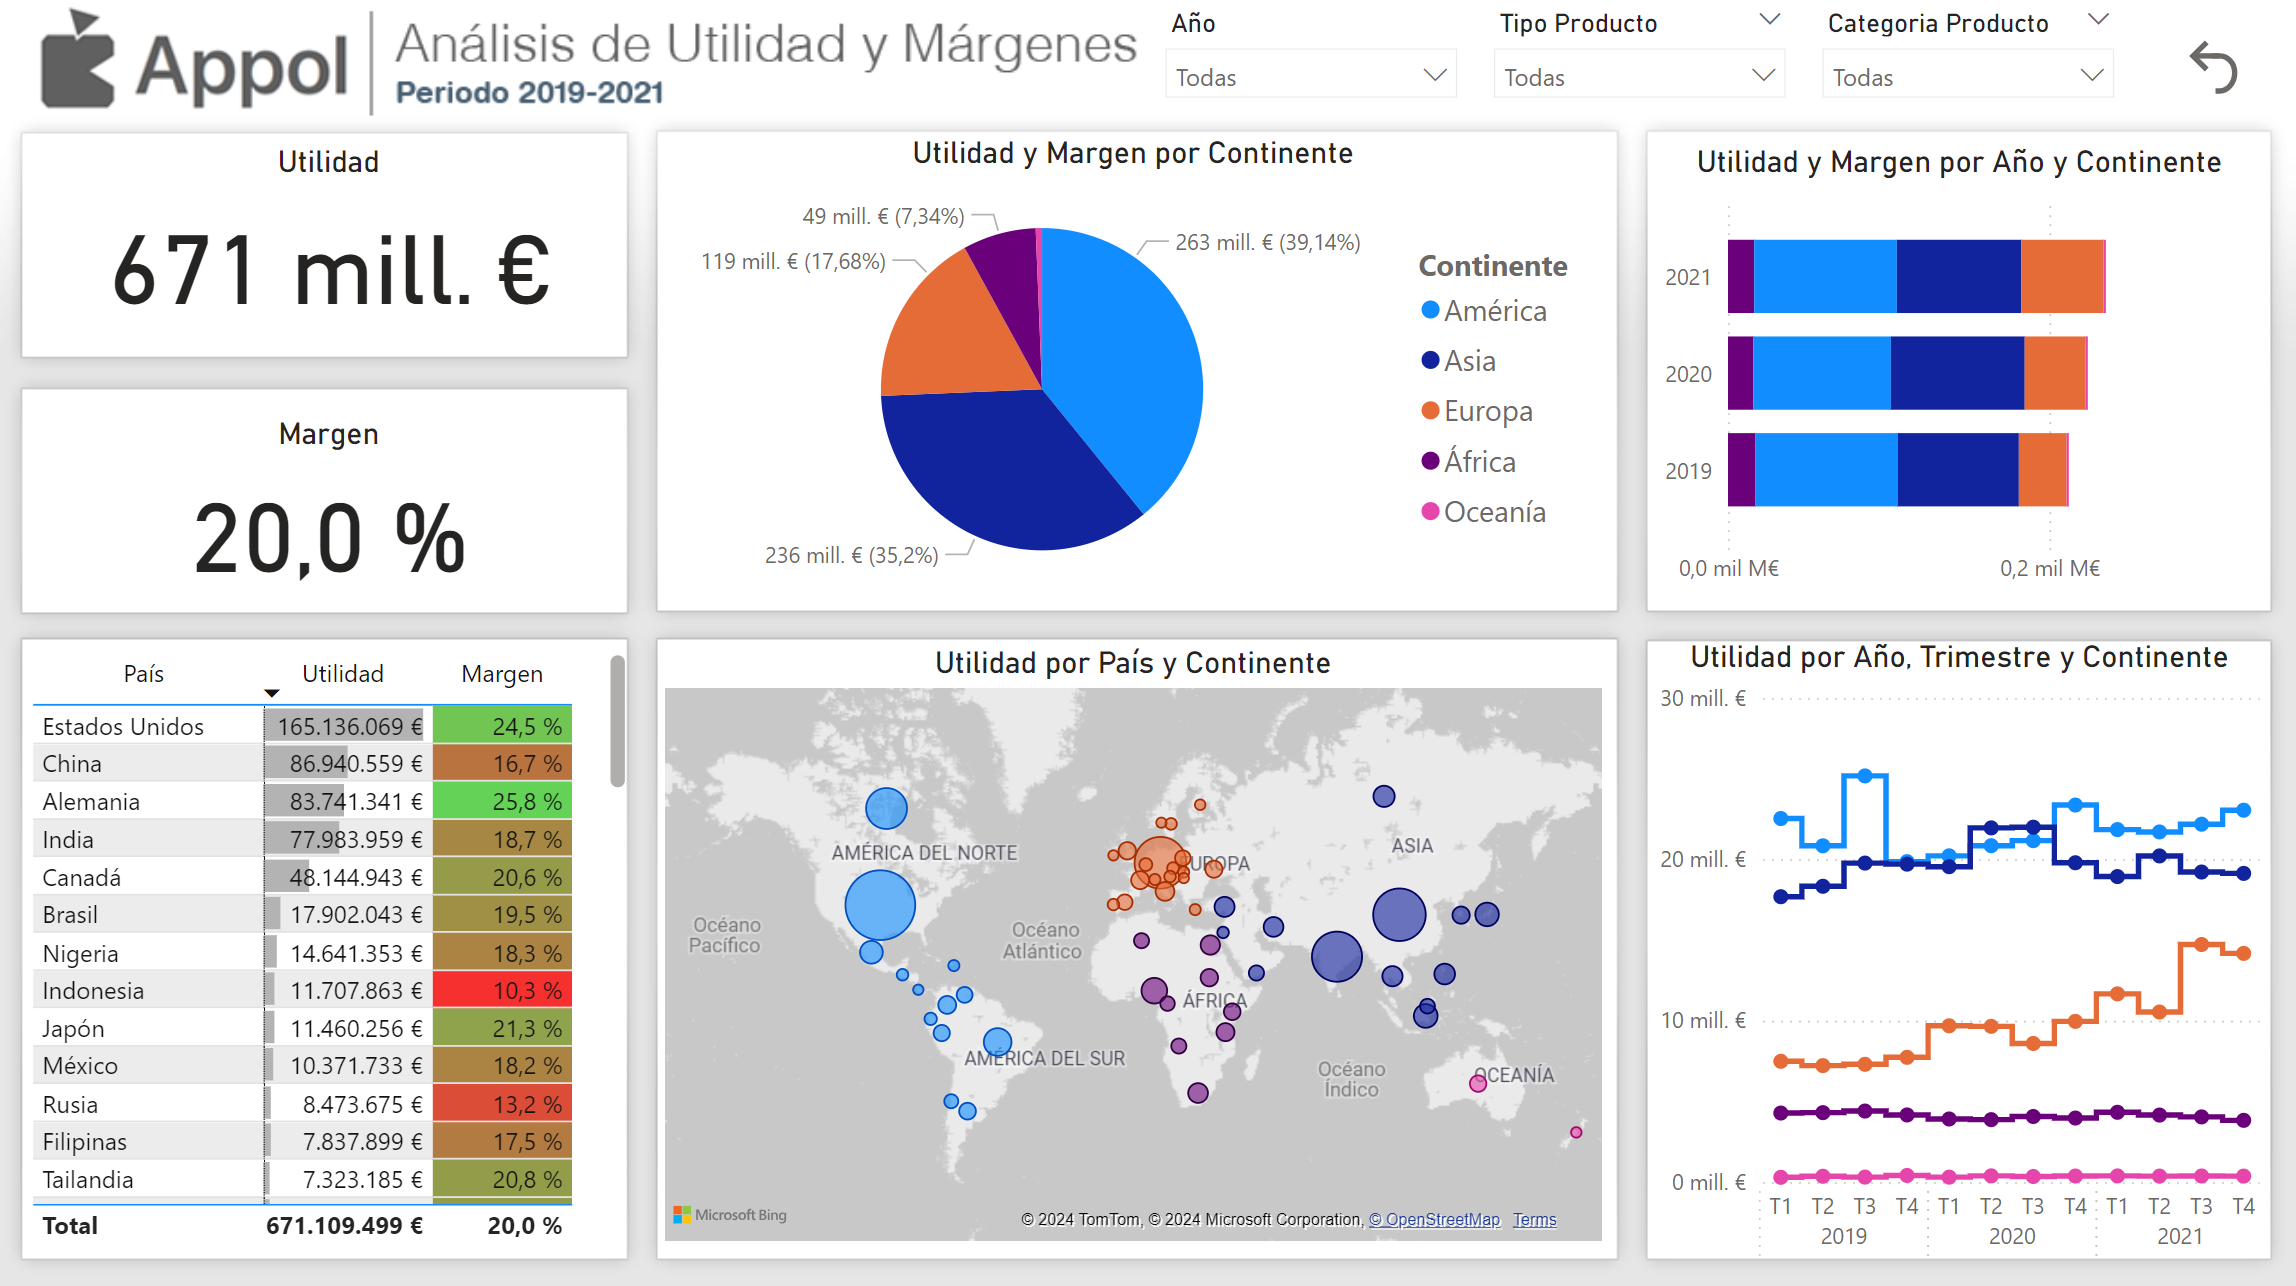

What the dashboard file says about the page in this screenshot:
{"tool":"powerbi","page":{"name":"Análisis","canvas":[1280,720],"ordinal":0},"visuals":[{"type":"tableEx","fields":{"Values":["Tabla Datos.País","Tabla Datos.Total Utilidad","Tabla Datos.Margen"]},"box":[14.5,359.5,340.2,336.6],"z":0},{"type":"card","title":"Utilidad","fields":{"Values":["Tabla Datos.Total Utilidad"]},"box":[14.5,80.8,340.2,107.4],"z":1000},{"type":"card","title":"Margen","fields":{"Values":["Tabla Datos.Margen"]},"box":[14.5,231.6,340.2,103.8],"z":2000},{"type":"barChart","fields":{"Category":["Tabla Datos.Año"],"Y":["Tabla Datos.Total Utilidad"],"Series":["Tabla Datos.Continente"]},"box":[918.1,80.8,343.8,254.6],"z":3000},{"type":"pieChart","fields":{"Category":["Tabla Datos.Continente"],"Y":["Tabla Datos.Total Utilidad"]},"box":[365.6,76,530.8,264.2],"z":4000},{"type":"map","fields":{"Size":["Tabla Datos.Total Utilidad"],"Category":["Tabla Datos.País"],"Series":["Tabla Datos.Continente"]},"box":[365.6,359.5,530.8,336.6],"z":5000},{"type":"lineChart","fields":{"Category":["Tabla Datos.Año","Tabla Datos.Trimestre"],"Y":["Tabla Datos.Total Utilidad"],"Series":["Tabla Datos.Continente"]},"box":[918.1,355.9,343.8,354.7],"z":6000},{"type":"slicer","fields":{"Values":["Tabla Datos.Año"]},"box":[639.4,0,182.2,80.8],"z":7000},{"type":"slicer","fields":{"Values":["Tabla Datos.Tipo Producto"]},"box":[821.6,0,182.2,80.8],"z":8000},{"type":"slicer","fields":{"Values":["Tabla Productos.Categoria Producto"]},"box":[1003.8,0,182.2,76],"z":9000},{"type":"actionButton","box":[1211.3,18.1,42.2,39.8],"z":10000}]}

Visuals, with their boxes in screenshot pixels (x1, y1, x2, y2), scaled from the page's 1280x720 canvas onto the 2296x1286 screenshot:
tableEx - Tabla Datos.País x Tabla Datos.Total Utilidad: bbox=[26, 642, 636, 1243]
"Utilidad" card: bbox=[26, 144, 636, 336]
"Margen" card: bbox=[26, 414, 636, 599]
barChart - Tabla Datos.Año x Tabla Datos.Total Utilidad: bbox=[1647, 144, 2264, 599]
pieChart - Tabla Datos.Continente x Tabla Datos.Total Utilidad: bbox=[656, 136, 1608, 608]
map - Tabla Datos.Total Utilidad x Tabla Datos.País: bbox=[656, 642, 1608, 1243]
lineChart - Tabla Datos.Año x Tabla Datos.Trimestre: bbox=[1647, 636, 2264, 1269]
slicer - Tabla Datos.Año: bbox=[1147, 0, 1474, 144]
slicer - Tabla Datos.Tipo Producto: bbox=[1474, 0, 1801, 144]
slicer - Tabla Productos.Categoria Producto: bbox=[1801, 0, 2127, 136]
actionButton: bbox=[2173, 32, 2248, 103]
